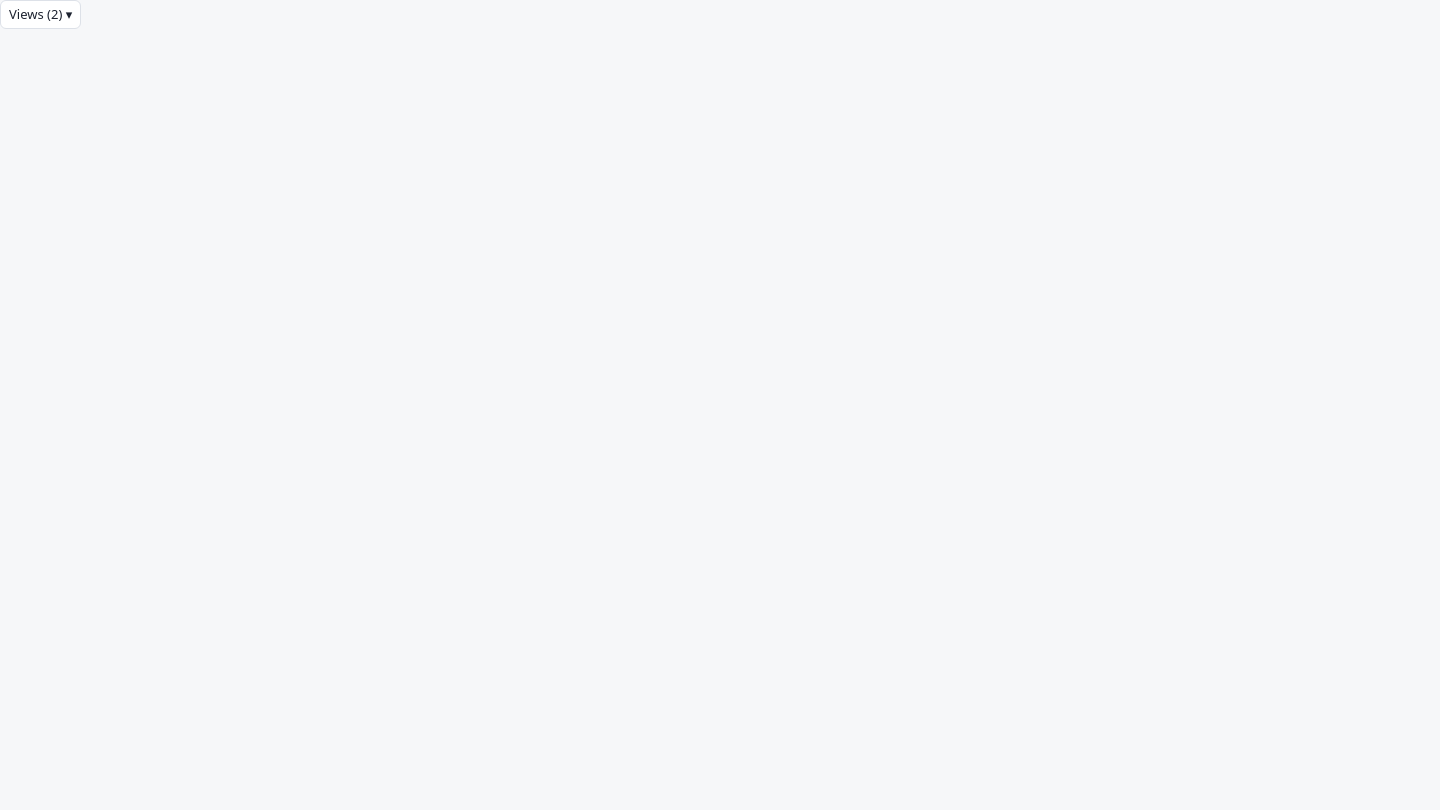
Scenario: ViewsMenu › lists the views of the repo with their owners, and the count on the button
Step 1. Click the button "Views (2) ▾" → (41, 14), box [0, 0, 81, 29]
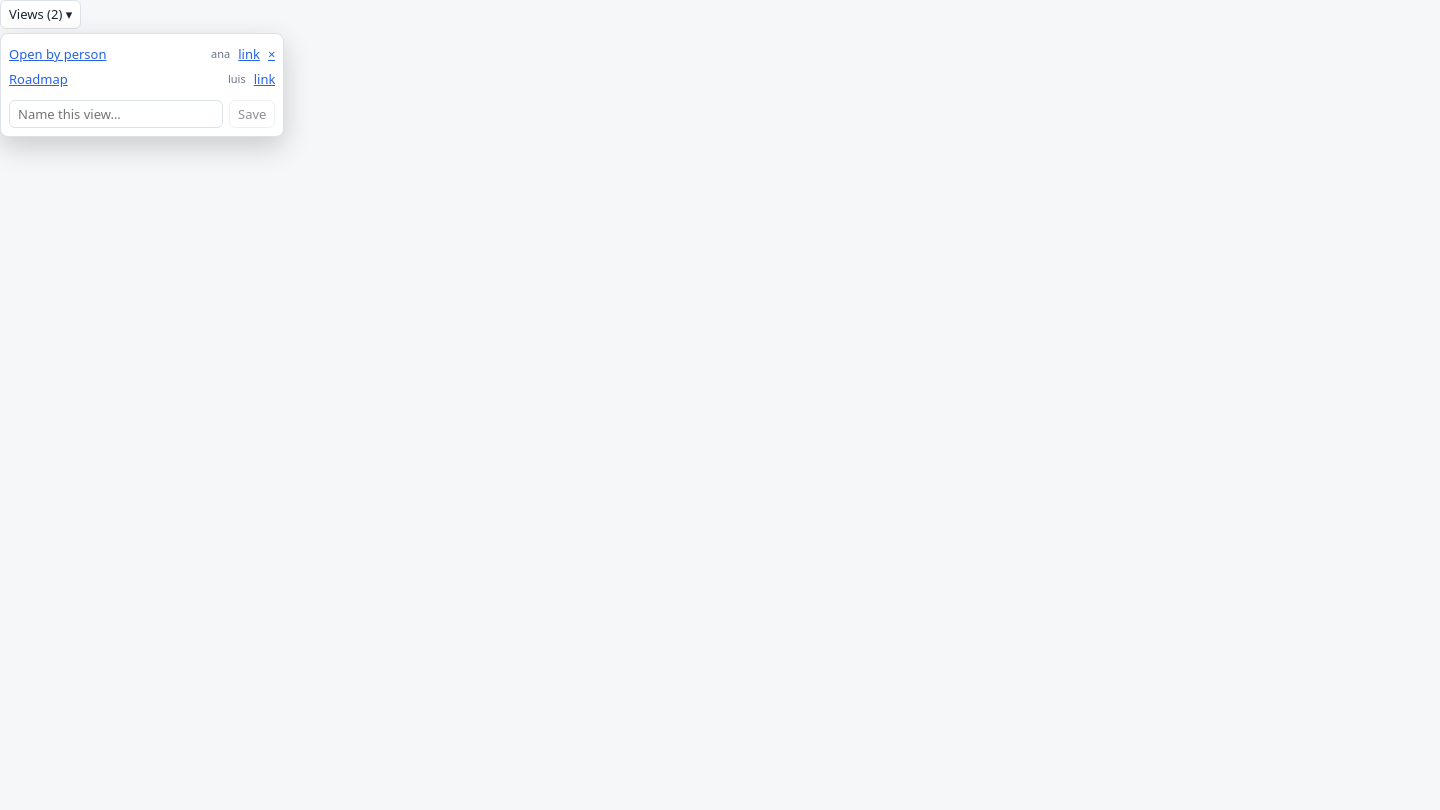
Expected: the text "Open by person" is shown, [9, 45, 203, 64]
Expected: the text "luis" is shown, [228, 71, 246, 87]
